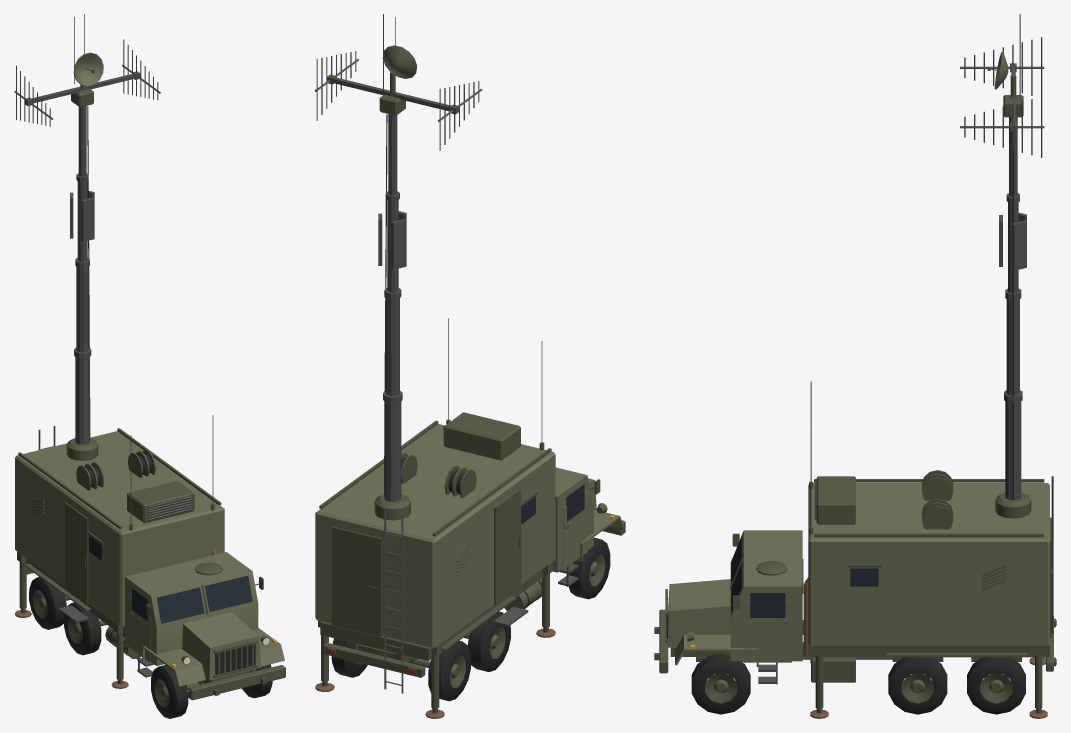
Rendered from Enemy_Jammer.fbx.
The picture shows the model from 3 angles, left to right: view 1: azimuth 30°, elevation 25°; view 2: azimuth 150°, elevation 25°; view 3: azimuth 270°, elevation 25°; orthographic projection. The views are drawn at different scales.
Parts seen in each view (by area): view 1: Enemy_Jammer_Mesh, Turret; view 2: Enemy_Jammer_Mesh, Turret; view 3: Enemy_Jammer_Mesh, Turret.
Boxes of the visible parts, bbox=[...] form: Enemy_Jammer_Mesh: bbox=[15, 415, 285, 718]; Turret: bbox=[14, 14, 160, 460]; Enemy_Jammer_Mesh: bbox=[315, 318, 625, 718]; Turret: bbox=[314, 14, 482, 520]; Enemy_Jammer_Mesh: bbox=[654, 381, 1056, 718]; Turret: bbox=[960, 14, 1044, 518].
Size of the model in its own units: 2.78 by 13.18 by 7.16.
